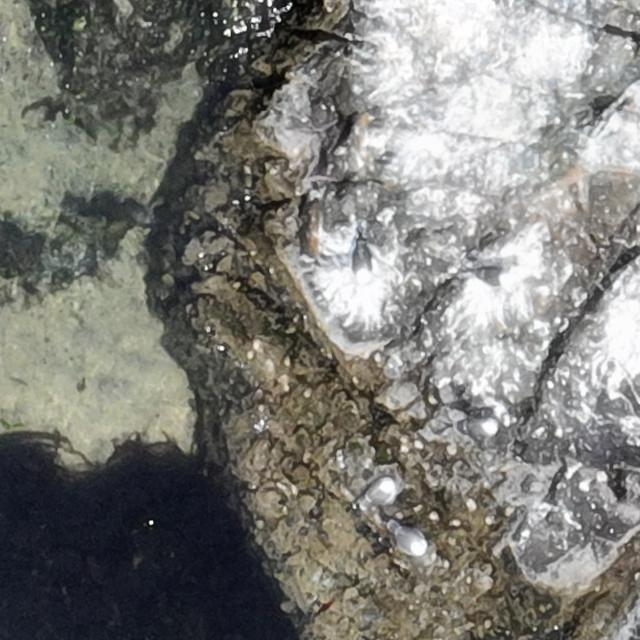umineko: (356, 474, 394, 520), (352, 234, 370, 286), (454, 416, 497, 436), (469, 266, 510, 284), (395, 529, 425, 553)
